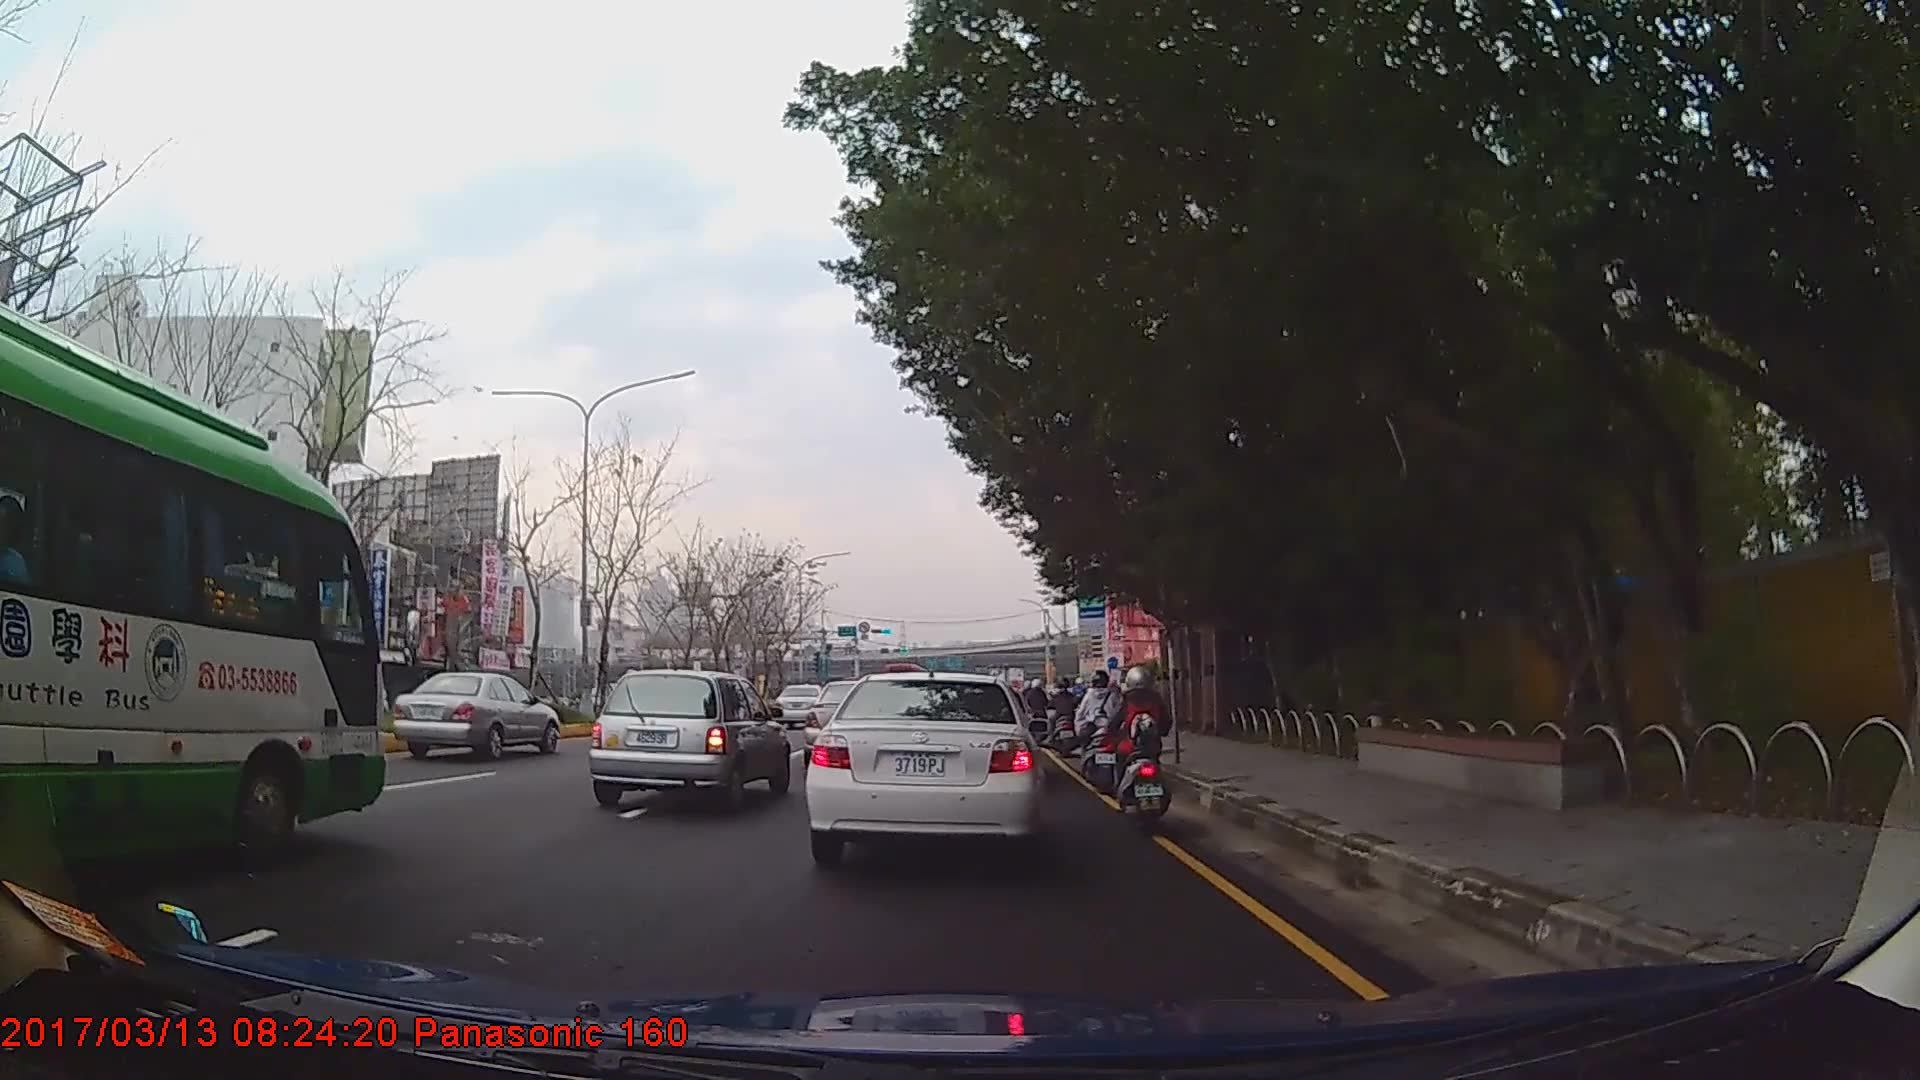rider: (1104, 661, 1164, 820), (1077, 669, 1121, 788), (1051, 680, 1078, 748)
vehicle: (0, 295, 386, 883), (802, 669, 1043, 858), (587, 669, 791, 811), (392, 670, 557, 764), (774, 683, 829, 727)
